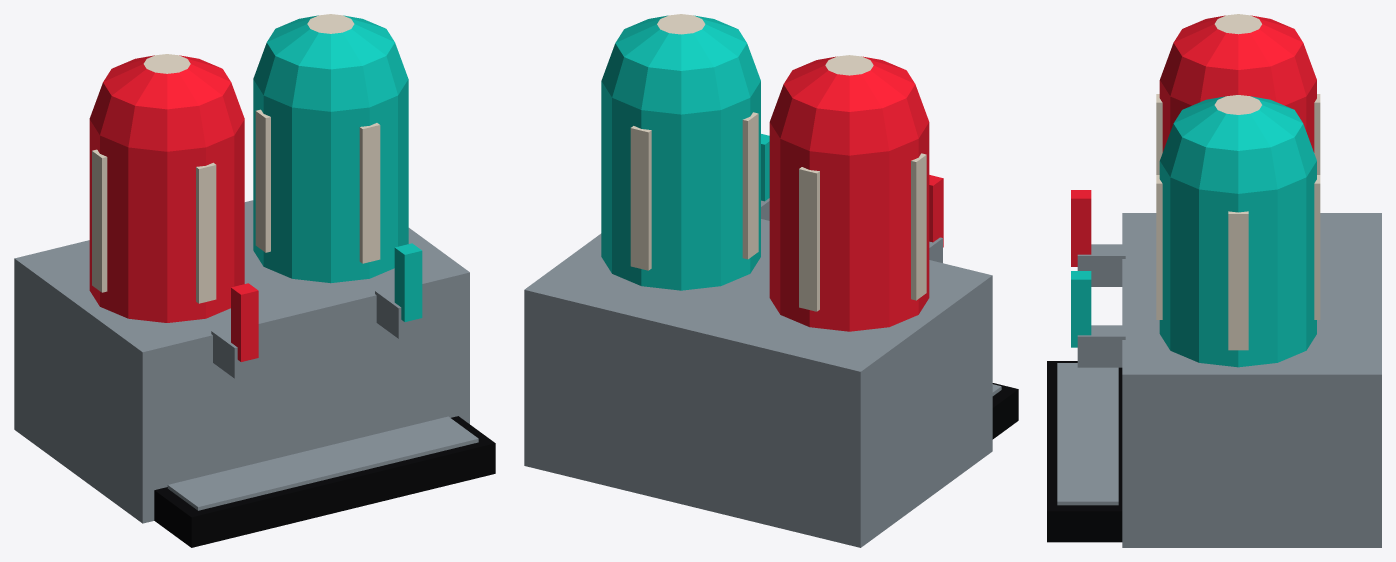
The model's file is cozy_bowling_slushie_dispenser.obj.
The picture shows the model from 3 angles, left to right: view 1: azimuth 30°, elevation 25°; view 2: azimuth 150°, elevation 25°; view 3: azimuth 270°, elevation 25°; orthographic projection. The views are drawn at different scales.
Parts seen in each view (by area): view 1: Slushie_Mesh; view 2: Slushie_Mesh; view 3: Slushie_Mesh.
Boxes of the visible parts, x1,y1,x2,y2 form: Slushie_Mesh: [14, 14, 495, 547]; Slushie_Mesh: [524, 14, 1018, 547]; Slushie_Mesh: [1047, 14, 1381, 547].
Bounding box in the file's own units: 0.56 × 0.65 × 0.49.
